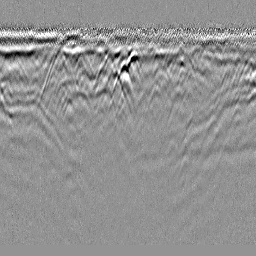cavity: (109, 60, 136, 98)
